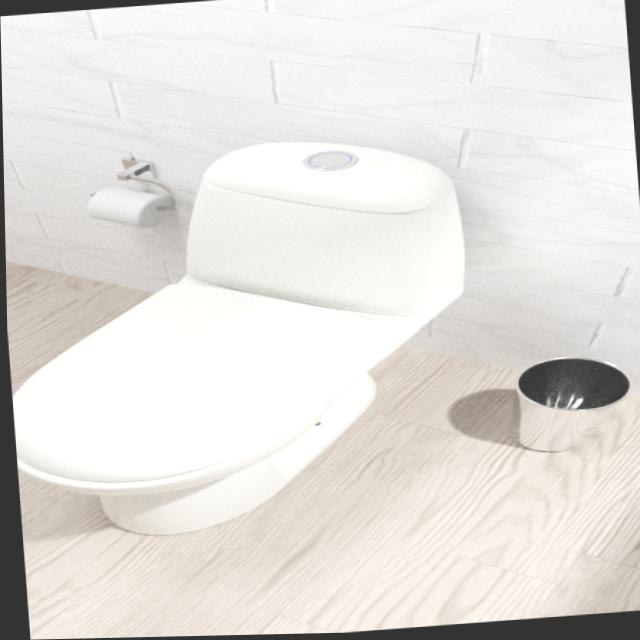toilet: (2, 129, 484, 545)
